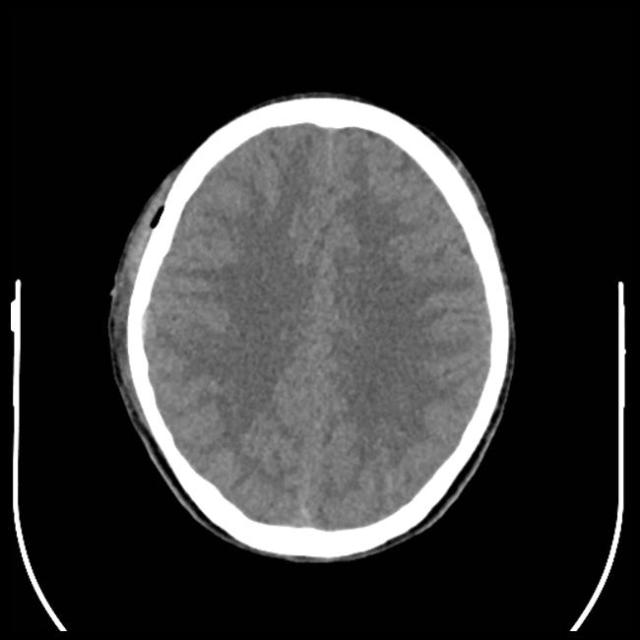lesion: (104, 91, 519, 564)
